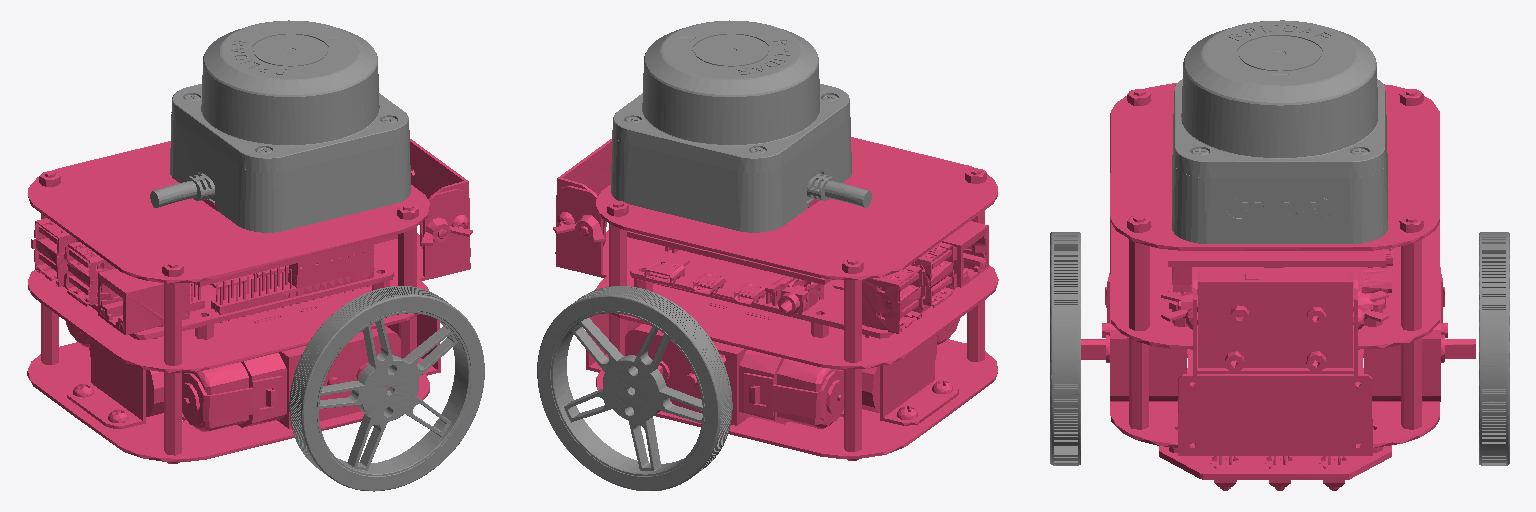
URDF robot description (pinky):
<?xml version="1.0" ?>
<!-- =================================================================================== -->
<!-- |    This document was autogenerated by xacro from robot_core.xacro               | -->
<!-- |    EDITING THIS FILE BY HAND IS NOT RECOMMENDED                                 | -->
<!-- =================================================================================== -->
<robot name="pinky">
  <!-- Specify some standard inertial calculations https://en.wikipedia.org/wiki/List_of_moments_of_inertia -->
  <!-- These make use of xacro's mathematical functionality -->
  <material name="white">
    <color rgba="1 1 1 1"/>
  </material>
  <link name="base_footprint"/>
  <joint name="base_link_fixed_joint" type="fixed">
    <parent link="base_footprint"/>
    <child link="base_link"/>
    <origin rpy="0 0 0" xyz="0 0 0.03"/>
  </joint>
  <link name="base_link"/>
  <joint name="chassis_fixed_joint" type="fixed">
    <parent link="base_link"/>
    <child link="chassis"/>
    <origin rpy="0 0 0" xyz="0 0 0"/>
  </joint>
  <link name="chassis">
    <visual>
      <origin rpy="0 0 0" xyz="0 0 0"/>
      <geometry>
        <mesh filename="package://pinky_description/meshes/visual/base_link.dae" scale="1 1 1"/>
      </geometry>
    </visual>
    <collision>
      <origin rpy="0 0 0" xyz="-0.01 0 0.01"/>
      <geometry>
        <box size="0.1 0.08 0.06"/>
      </geometry>
    </collision>
    <inertial>
      <origin rpy="0 0 0" xyz="-0.01 0 0.01"/>
      <mass value="1.0"/>
      <inertia ixx="0.0008333333333333333" ixy="0.0" ixz="0.0" iyy="0.0011333333333333334" iyz="0.0" izz="0.0013666666666666666"/>
    </inertial>
  </link>
  <joint name="caster_fixed_joint" type="fixed">
    <parent link="chassis"/>
    <child link="caster"/>
    <origin rpy="0 0 0" xyz="-0.044 0 -0.02"/>
  </joint>
  <link name="caster">
    <visual>
      <origin rpy="0 0 0" xyz="0 0 0"/>
      <geometry>
        <sphere radius="0.01"/>
      </geometry>
      <material name="white"/>
    </visual>
    <collision>
      <origin rpy="0 0 0" xyz="0 0 0"/>
      <geometry>
        <sphere radius="0.01"/>
      </geometry>
    </collision>
    <inertial>
      <origin rpy="0 0 0" xyz="0 0 0"/>
      <mass value="0.7"/>
      <inertia ixx="2.8e-05" ixy="0.0" ixz="0.0" iyy="2.8e-05" iyz="0.0" izz="2.8e-05"/>
    </inertial>
  </link>
  <joint name="left_wheel_joint" type="continuous">
    <parent link="base_link"/>
    <child link="left_wheel"/>
    <origin rpy="-1.5707963267948966 0 0" xyz="0 0.055 0"/>
    <axis xyz="0 0 1"/>
  </joint>
  <link name="left_wheel">
    <visual>
      <origin rpy="0 0 0" xyz="0 0 0"/>
      <geometry>
        <mesh filename="package://pinky_description/meshes/visual/wheel.dae" scale="1 1 1"/>
      </geometry>
    </visual>
    <collision>
      <origin rpy="0 0 0" xyz="0 0 0"/>
      <geometry>
        <cylinder length="0.014" radius="0.03"/>
      </geometry>
    </collision>
    <inertial>
      <origin rpy="0 0 0" xyz="0 0 0"/>
      <mass value="0.05"/>
      <inertia ixx="1.2066666666666666e-05" ixy="0.0" ixz="0.0" iyy="1.2066666666666666e-05" iyz="0.0" izz="2.25e-05"/>
    </inertial>
  </link>
  <joint name="right_wheel_joint" type="continuous">
    <parent link="base_link"/>
    <child link="right_wheel"/>
    <origin rpy="1.5707963267948966 0 0" xyz="0 -0.055 0"/>
    <axis xyz="0 0 -1"/>
  </joint>
  <link name="right_wheel">
    <visual>
      <origin rpy="0 0 0" xyz="0 0 0"/>
      <geometry>
        <mesh filename="package://pinky_description/meshes/visual/wheel.dae" scale="1 1 1"/>
      </geometry>
    </visual>
    <collision>
      <origin rpy="0 0 0" xyz="0 0 0"/>
      <geometry>
        <cylinder length="0.014" radius="0.03"/>
      </geometry>
    </collision>
    <inertial>
      <origin rpy="0 0 0" xyz="0 0 0"/>
      <mass value="0.05"/>
      <inertia ixx="1.2066666666666666e-05" ixy="0.0" ixz="0.0" iyy="1.2066666666666666e-05" iyz="0.0" izz="2.25e-05"/>
    </inertial>
  </link>
  <link name="ul_sensor_mount">
    <visual>
      <origin rpy="0 0 0" xyz="0 0 0"/>
      <geometry>
        <mesh filename="package://pinky_description/meshes/visual/ul_sensor.dae" scale="1 1 1"/>
      </geometry>
    </visual>
    <collision>
      <origin rpy="0 0 0" xyz="0 0 0"/>
      <geometry>
        <mesh filename="package://pinky_description/meshes/collision/ul_sensor.stl" scale="1 1 1"/>
      </geometry>
    </collision>
    <inertial>
      <origin rpy="0 0 0" xyz="0.005 0 0.013"/>
      <mass value="0.050000"/>
      <inertia ixx="0.000005" ixy="0" ixz="-0.000001" iyy="0.000004" iyz="0" izz="0.000003"/>
    </inertial>
  </link>
  <joint name="ul_sensor_mount_fixed_joint" type="fixed">
    <parent link="chassis"/>
    <child link="ul_sensor_mount"/>
    <origin rpy="0 0 0" xyz="0.038 -0.002 -0.0035"/>
  </joint>
  <link name="ul_sensor_link"/>
  <joint name="ul_sensor_link_fixed_joint" type="fixed">
    <parent link="ul_sensor_mount"/>
    <child link="ul_sensor_link"/>
    <origin rpy="0 0 0" xyz="0.01 0 0"/>
  </joint>
  <link name="front_camera_mount">
    <visual>
      <origin rpy="0 0 0" xyz="0 0 0"/>
      <geometry>
        <mesh filename="package://pinky_description/meshes/visual/camera.dae" scale="1 1 1"/>
      </geometry>
    </visual>
    <collision>
      <origin rpy="0 0 0" xyz="0 0 0"/>
      <geometry>
        <mesh filename="package://pinky_description/meshes/collision/camera.stl" scale="1 1 1"/>
      </geometry>
    </collision>
    <inertial>
      <origin rpy="0 0 0" xyz="0.005 0 0.013"/>
      <mass value="0.050000"/>
      <inertia ixx="0.000005" ixy="0" ixz="-0.000001" iyy="0.000004" iyz="0" izz="0.000003"/>
    </inertial>
  </link>
  <joint name="front_camera_mount_fixed_joint" type="fixed">
    <parent link="chassis"/>
    <child link="front_camera_mount"/>
    <origin rpy="0 0 0" xyz="0.05 -0.001 0.028"/>
  </joint>
  <link name="camera_link"/>
  <joint name="camera_link_fixed_joint" type="fixed">
    <parent link="front_camera_mount"/>
    <child link="camera_link"/>
    <origin rpy="-1.5707963267948966 0 -1.5707963267948966" xyz="0.001 0 0.003"/>
  </joint>
  <link name="lidar_lidar_mount">
    <visual>
      <origin rpy="0 0 0" xyz="0 0 0"/>
      <geometry>
        <mesh filename="package://pinky_description/meshes/visual/lidar.dae" scale="1 1 1"/>
      </geometry>
    </visual>
    <collision>
      <origin rpy="0 0 0" xyz="0 0 0"/>
      <geometry>
        <mesh filename="package://pinky_description/meshes/collision/lidar.stl" scale="1 1 1"/>
      </geometry>
    </collision>
    <inertial>
      <origin rpy="0 0 0" xyz="0.007 0 0.025"/>
      <mass value="0.110"/>
      <inertia ixx="0.000058" ixy="0" ixz="0.000005" iyy="0.000099" iyz="0" izz="0.000103"/>
    </inertial>
  </link>
  <joint name="lidar_mount_fixed_joint" type="fixed">
    <parent link="chassis"/>
    <child link="lidar_lidar_mount"/>
    <origin rpy="0 0 0" xyz="0 0 0.042"/>
  </joint>
  <link name="laser_link"/>
  <joint name="laser_link_fixed_joint" type="fixed">
    <parent link="lidar_lidar_mount"/>
    <child link="laser_link"/>
    <origin rpy="0 0 3.141592653589793" xyz="0.0 0 0.03"/>
  </joint>
  <link name="imu_link"/>
  <joint name="imu_link_joint" type="fixed">
    <parent link="chassis"/>
    <child link="imu_link"/>
    <origin rpy="0 0 0" xyz="0 0 0.03"/>
  </joint>
</robot>

--- What the picture shows (computed from the rendered views, not written in the file) ---
3 views of the same robot in one strip: view 1: azimuth 30°, elevation 25°; view 2: azimuth 150°, elevation 25°; view 3: azimuth 270°, elevation 25° (orthographic).
Robot: pinky — 13 links, 12 joints (2 continuous, 10 fixed); root link base_footprint; default pose: every joint at zero.
Visible links, largest first — view 1: chassis, lidar_lidar_mount, right_wheel; view 2: chassis, lidar_lidar_mount, left_wheel; view 3: chassis, lidar_lidar_mount, left_wheel, right_wheel.
Boxes of the visible links, box(x1,y1,x2,y2) form: chassis: box(27, 139, 472, 463); lidar_lidar_mount: box(150, 20, 410, 232); right_wheel: box(289, 286, 484, 491); chassis: box(553, 137, 998, 460); lidar_lidar_mount: box(611, 20, 871, 232); left_wheel: box(537, 286, 732, 490); chassis: box(1081, 83, 1475, 490); lidar_lidar_mount: box(1172, 20, 1387, 243); left_wheel: box(1479, 232, 1509, 465); right_wheel: box(1050, 232, 1080, 465).
Bounding box of the posed robot: 0.1203 × 0.1181 × 0.114 m (x, y, z).
Meshes: 5 distinct files referenced, 4 mesh visuals loaded (3 Collada DAE); not drawn: 2 (file found but could not be loaded).
